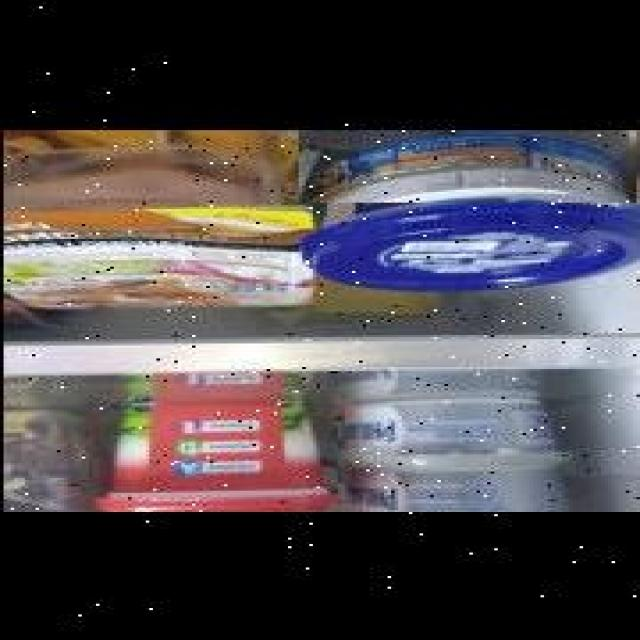butter: (90, 393, 340, 512)
cheese: (298, 128, 640, 200)
